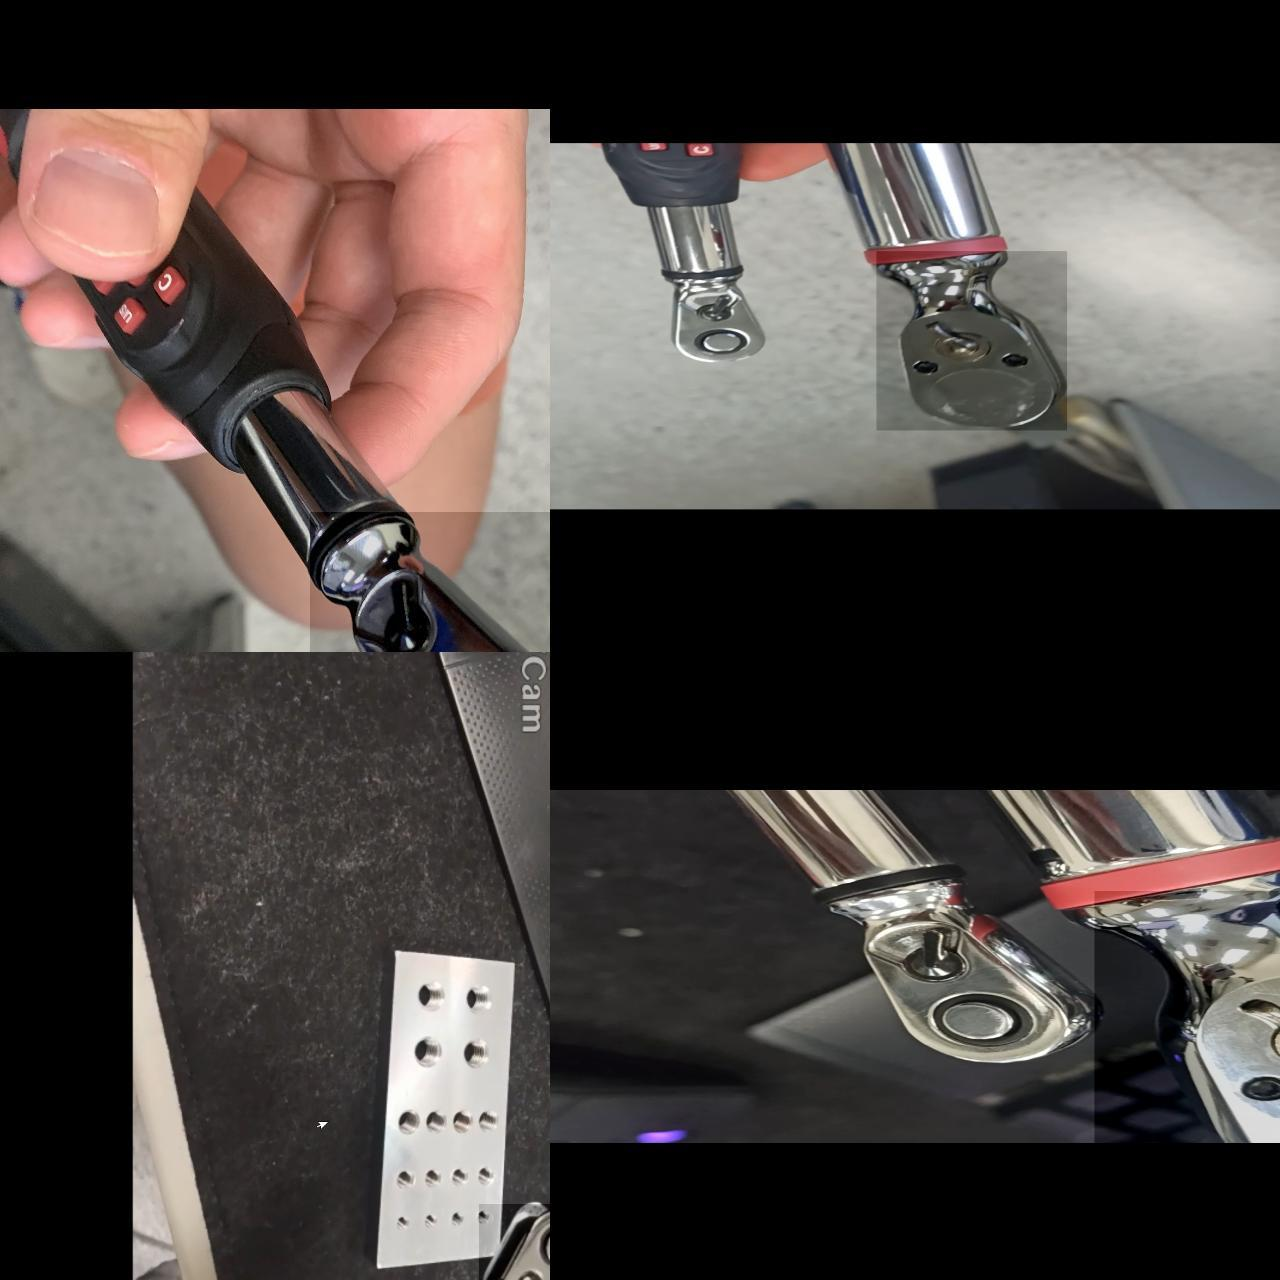Tool: (826, 872, 1109, 1068), (1094, 891, 1280, 1143), (877, 251, 1068, 430), (309, 511, 550, 652), (663, 275, 763, 365), (479, 1203, 550, 1280)
hole: (415, 1034, 454, 1074), (420, 978, 458, 1016), (465, 1035, 501, 1069), (463, 985, 497, 1017), (400, 1105, 429, 1135), (433, 1105, 458, 1132), (483, 1107, 508, 1131), (457, 1108, 481, 1132), (484, 1200, 509, 1223), (401, 1167, 424, 1190), (482, 1163, 503, 1185), (457, 1203, 479, 1224), (456, 1166, 477, 1187), (431, 1167, 454, 1187), (433, 1212, 451, 1230), (403, 1214, 421, 1231)
